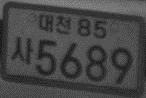5: (35, 38, 57, 77), (93, 19, 107, 39)
6: (58, 41, 82, 80)
8: (84, 44, 107, 82), (77, 17, 91, 37)
9: (110, 46, 133, 85)
대전_H: (37, 13, 72, 35)
사: (10, 35, 34, 66)
